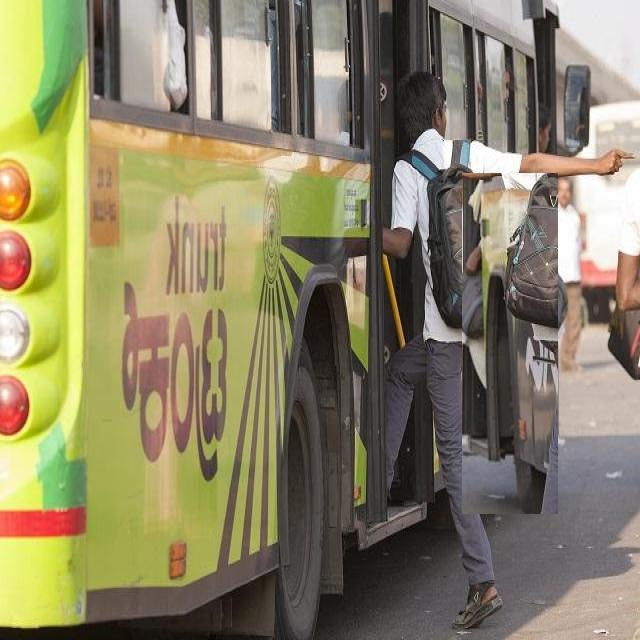bus: (0, 0, 560, 637), (462, 174, 558, 514), (565, 67, 590, 149)
